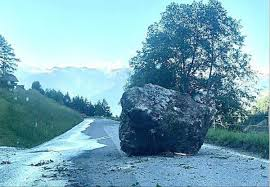obstacle: (115, 82, 219, 162)
